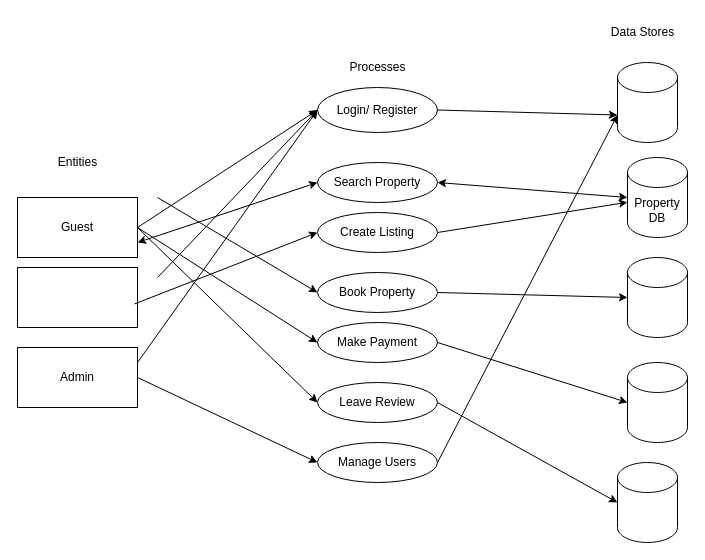
Some shapes in this 705 by 560 pixel diagram are drawn without their labels. The centre of each missing label's shape, as x and y in pixels:
"Booking DB" belongs at point 657,297.
"Host" belongs at point 77,297.
"Payment DB" belongs at point 657,402.
"Review DB" belongs at point 647,502.
"User DB" belongs at point 647,102.
